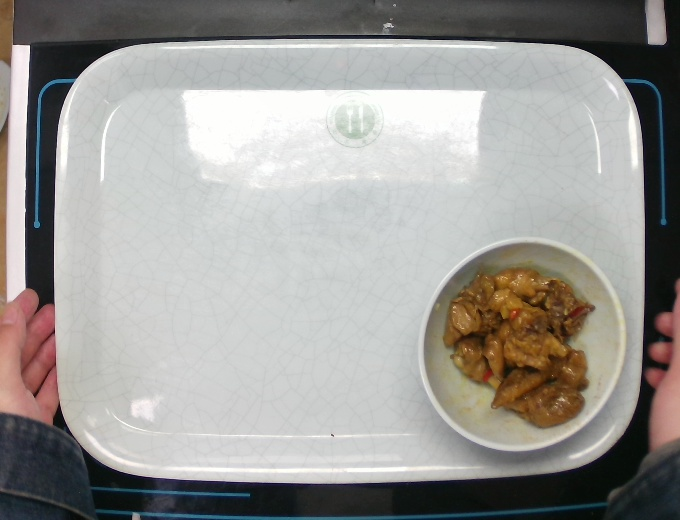JYsf-Fan_Wan: (419, 237, 630, 456)
